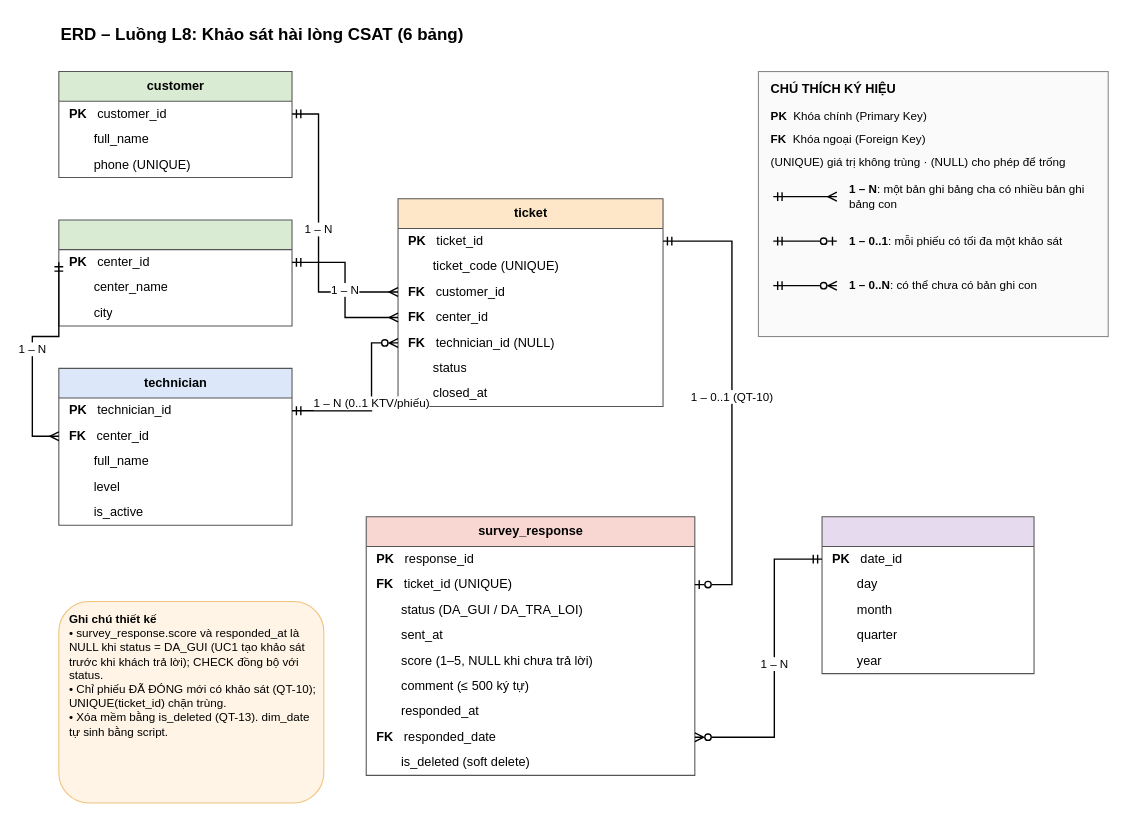
Image size: 1127x821. Some labels were removed from this diagram. The shapes that lost their labels are listed below. From the top down, each one's box as (x1, y1, x2, y2) in pixels, then its label:
(58, 219, 292, 326): service_center
(821, 516, 1034, 674): dim_date
